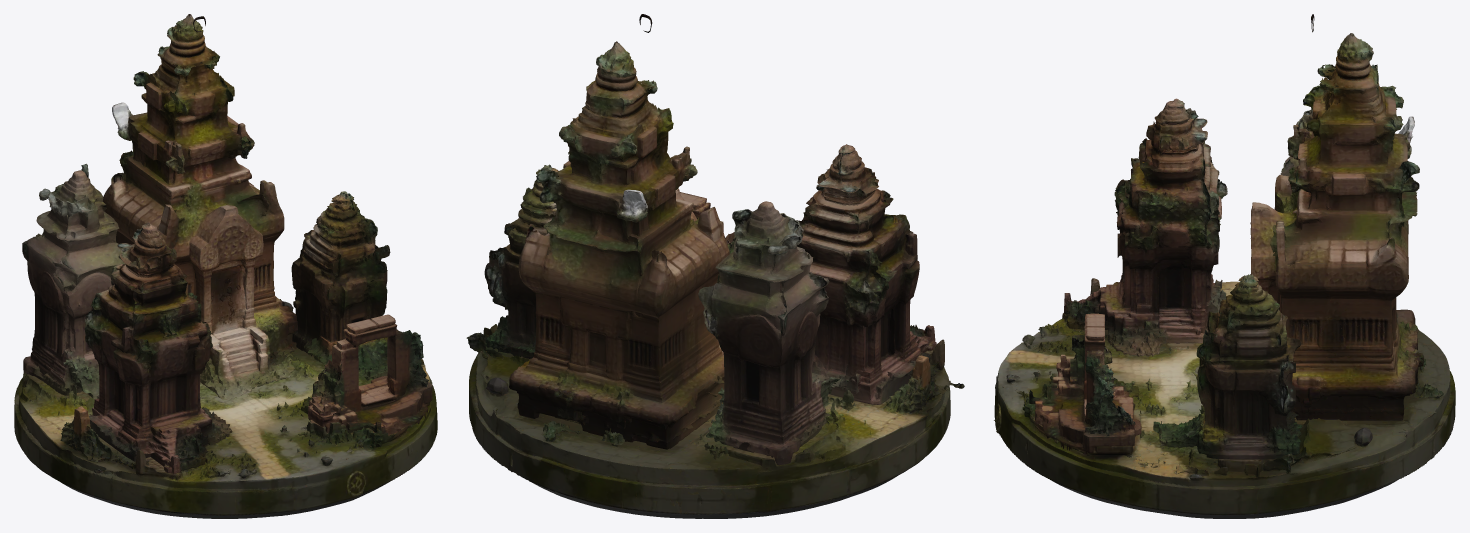
The picture shows the model from 3 angles, left to right: view 1: azimuth 30°, elevation 25°; view 2: azimuth 150°, elevation 25°; view 3: azimuth 270°, elevation 25°; orthographic projection. The views are drawn at different scales.
Parts seen in each view (by area): view 1: 1, 0, 2, 3, 4, 5; view 2: 1, 0, 3, 2, 4, 5; view 3: 1, 0, 2, 4, 5.
Part boxes in pixels (bbox=[...]): 1: bbox=[103, 14, 297, 399]; 0: bbox=[14, 301, 437, 518]; 2: bbox=[84, 222, 232, 473]; 3: bbox=[22, 163, 124, 399]; 4: bbox=[291, 191, 390, 380]; 5: bbox=[301, 314, 432, 434]; 1: bbox=[509, 14, 729, 449]; 0: bbox=[466, 324, 964, 518]; 3: bbox=[698, 201, 848, 465]; 2: bbox=[796, 144, 936, 404]; 4: bbox=[484, 164, 558, 358]; 5: bbox=[680, 192, 734, 282]; 1: bbox=[1191, 14, 1423, 420]; 0: bbox=[994, 278, 1455, 518]; 2: bbox=[1064, 98, 1227, 356]; 4: bbox=[1153, 274, 1303, 459]; 5: bbox=[1029, 313, 1141, 453].
Size of the model in its own units: 0.9581 by 0.9558 by 0.9527.
6 materials, 6 textured.
